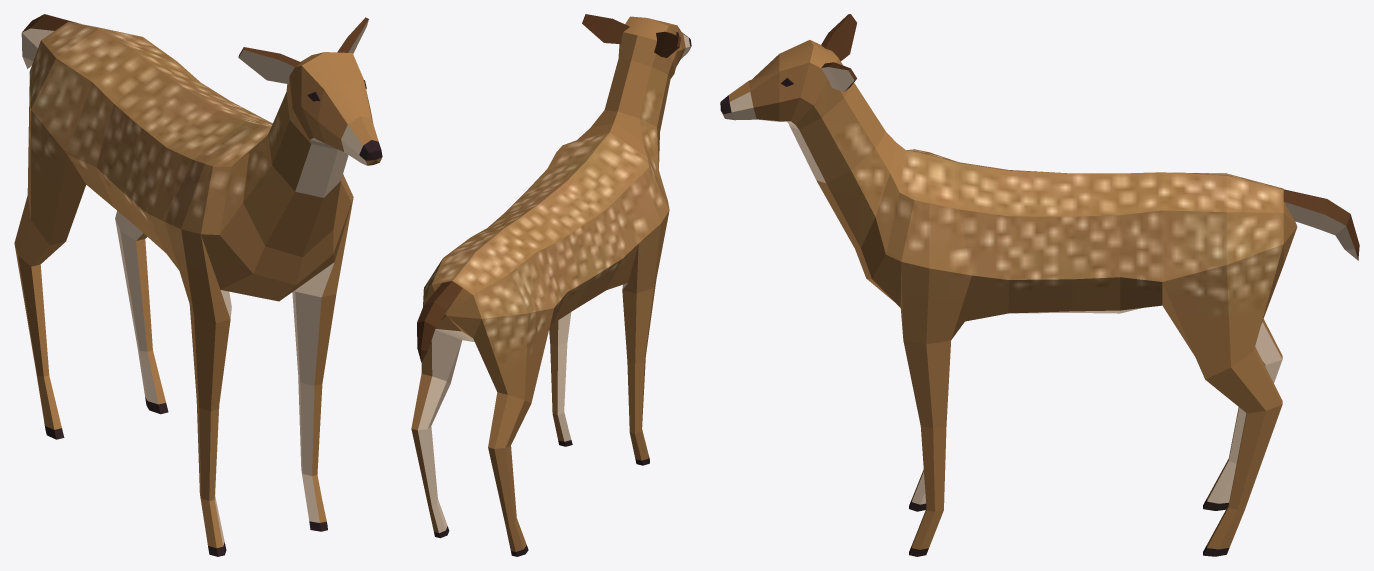
File: animals-deer-065.glb
3 renders of one model, left to right at view 1: azimuth 30°, elevation 25°; view 2: azimuth 150°, elevation 25°; view 3: azimuth 270°, elevation 25°, orthographic. The views are drawn at different scales.
Visible parts, largest first — view 1: Geo_Fawn; view 2: Geo_Fawn; view 3: Geo_Fawn.
Part boxes in pixels (x1=…): Geo_Fawn: x1=14, y1=14, x2=382, y2=556; Geo_Fawn: x1=411, y1=14, x2=691, y2=556; Geo_Fawn: x1=720, y1=14, x2=1359, y2=556.
Bounding box in the file's own units: 19.08 × 60.4 × 71.5.
Materials: 1 (1 with a texture image).
